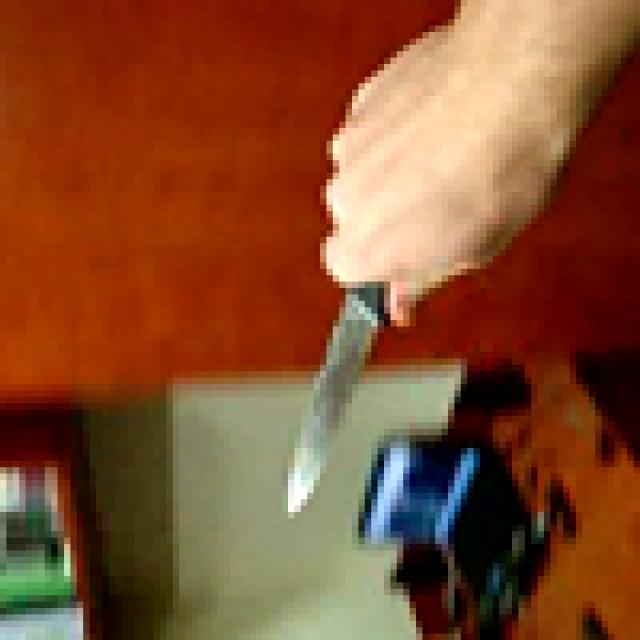Knife: (282, 205, 403, 525)
